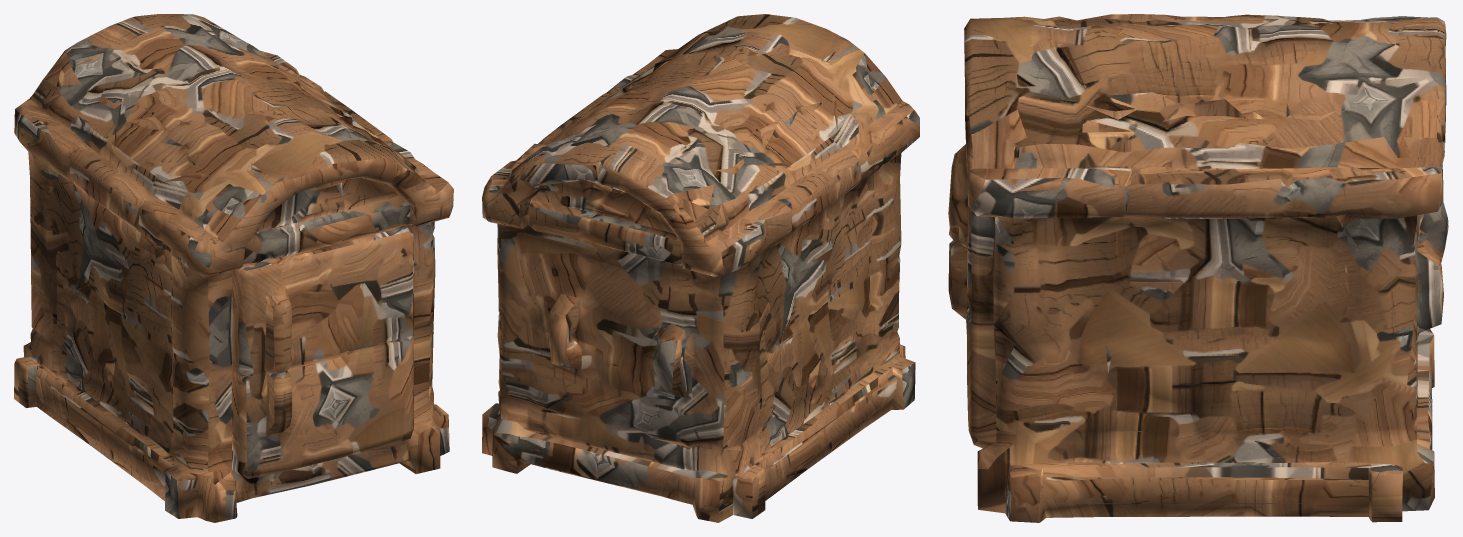
File: fridge.fbx
3 views of the same model, side by side, from view 1: azimuth 30°, elevation 25°; view 2: azimuth 150°, elevation 25°; view 3: azimuth 270°, elevation 25° (orthographic). The views are drawn at different scales.
Visible parts, largest first — view 1: Mesh_0; view 2: Mesh_0; view 3: Mesh_0.
Boxes of the visible parts, box(x1,y1,x2,y2) form: Mesh_0: box(14, 14, 453, 522); Mesh_0: box(482, 14, 919, 522); Mesh_0: box(948, 14, 1448, 522).
Bounding box in the file's own units: 145 × 175 × 192.
